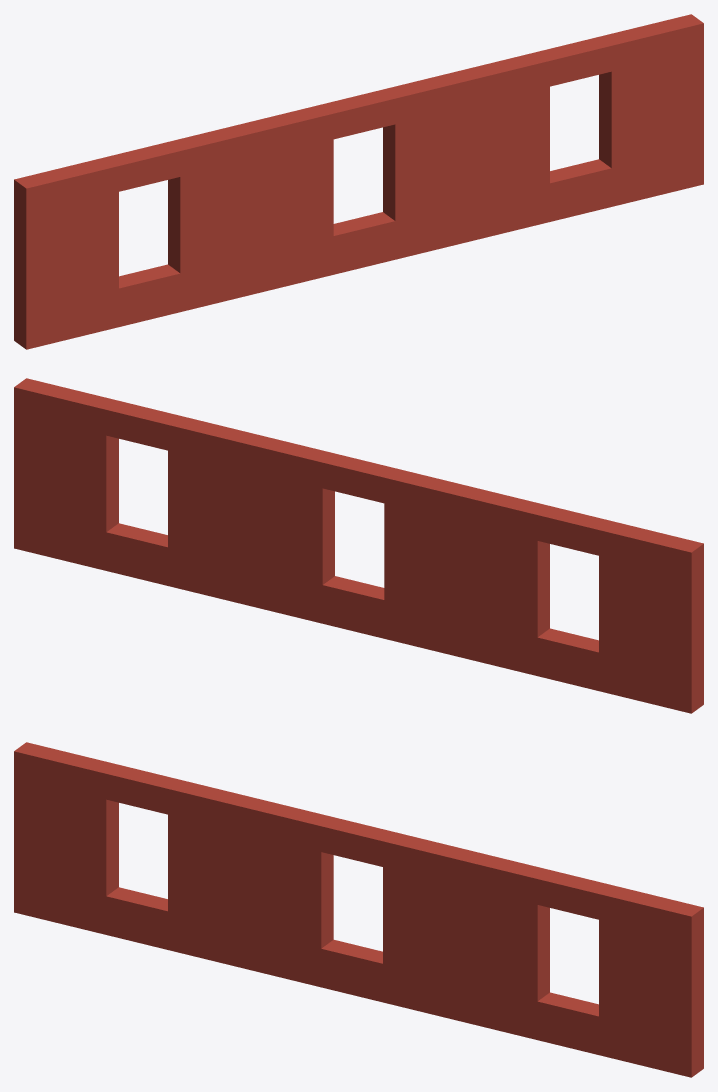
File: wall_with_window.dae
The picture shows the model from 3 angles, top to bottom: view 1: azimuth 30°, elevation 25°; view 2: azimuth 150°, elevation 25°; view 3: azimuth 330°, elevation 25°; orthographic projection.
Parts seen in each view (by area): view 1: node0; view 2: node0; view 3: node0.
Boxes of the visible parts, x1,y1,x2,y2 form: node0: [14, 14, 703, 349]; node0: [14, 378, 703, 713]; node0: [14, 742, 703, 1077].
Bounding box in the file's own units: 22 × 0.7 × 5.
